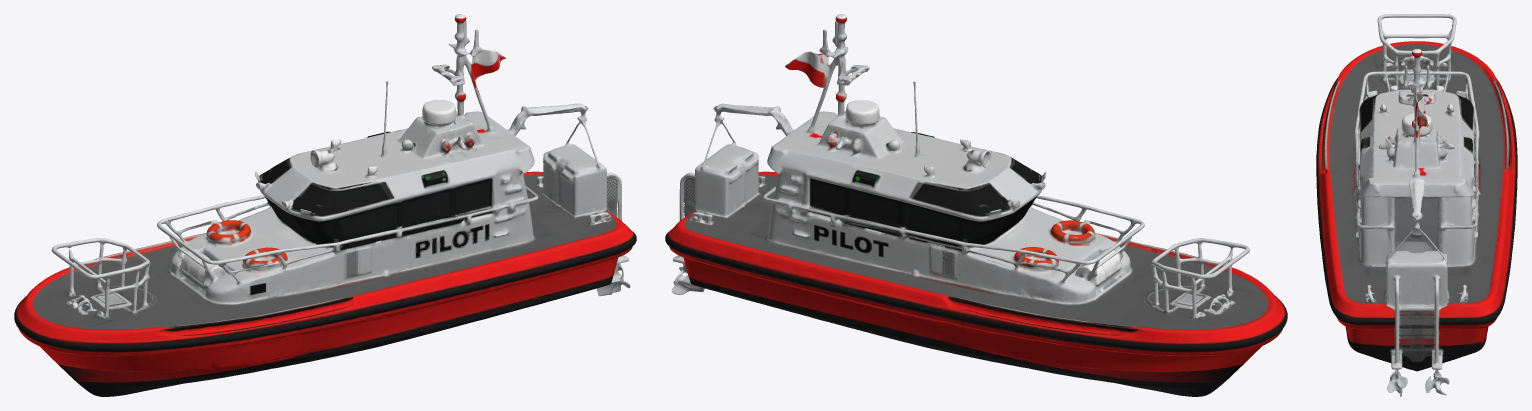
The model's file is pilot_boat.glb.
3 views of the same model, side by side, from view 1: azimuth 30°, elevation 25°; view 2: azimuth 150°, elevation 25°; view 3: azimuth 270°, elevation 25° (orthographic). The views are drawn at different scales.
Bounding box in the file's own units: 1.9 × 0.9397 × 0.6119.
1 material, 1 textured.
